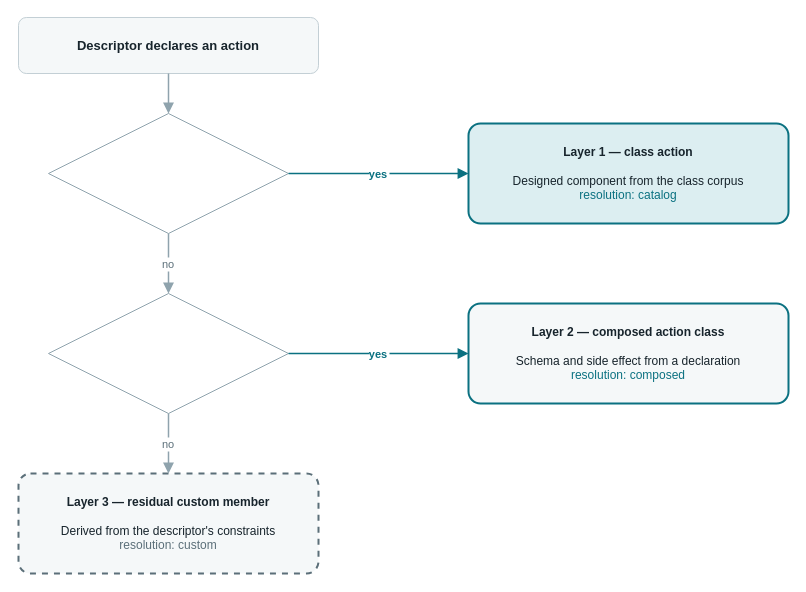
Image size: 806x592. Some labels were removed from this diagram. Each missing label, with the centre of its shape:
A composed action class claims it?: [168,353]
A served catalog describes it?: [168,173]
